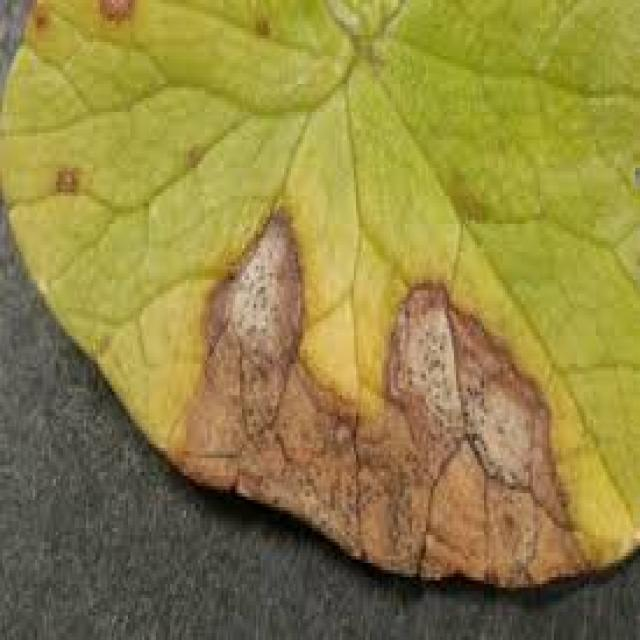Septoria_Blight_on_lettuce: (192, 222, 579, 565)
